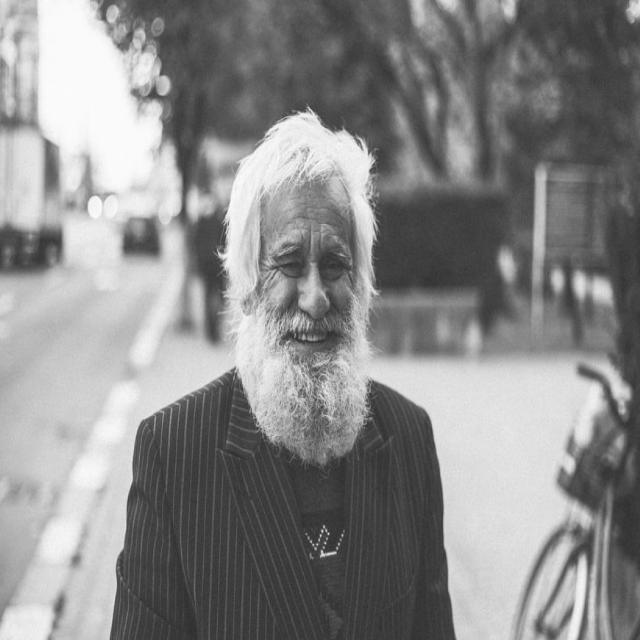Wrinkles: (309, 230, 311, 253), (295, 195, 304, 198), (284, 210, 290, 214), (312, 206, 319, 209), (290, 207, 296, 210), (329, 222, 335, 225), (320, 231, 321, 248), (322, 207, 330, 209), (319, 221, 329, 222), (304, 217, 312, 218), (307, 205, 312, 206), (297, 217, 302, 218), (293, 218, 297, 219), (304, 195, 310, 195)
